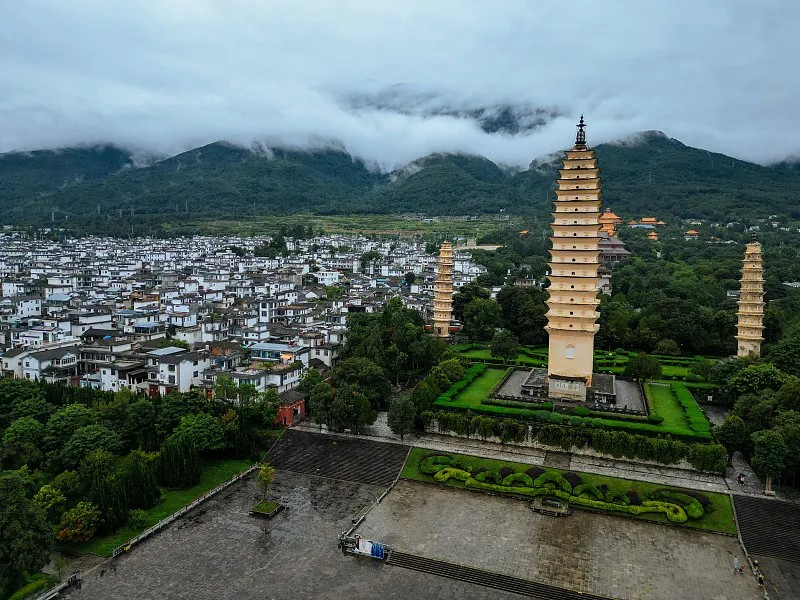ThreePagoda: (544, 114, 600, 386)
